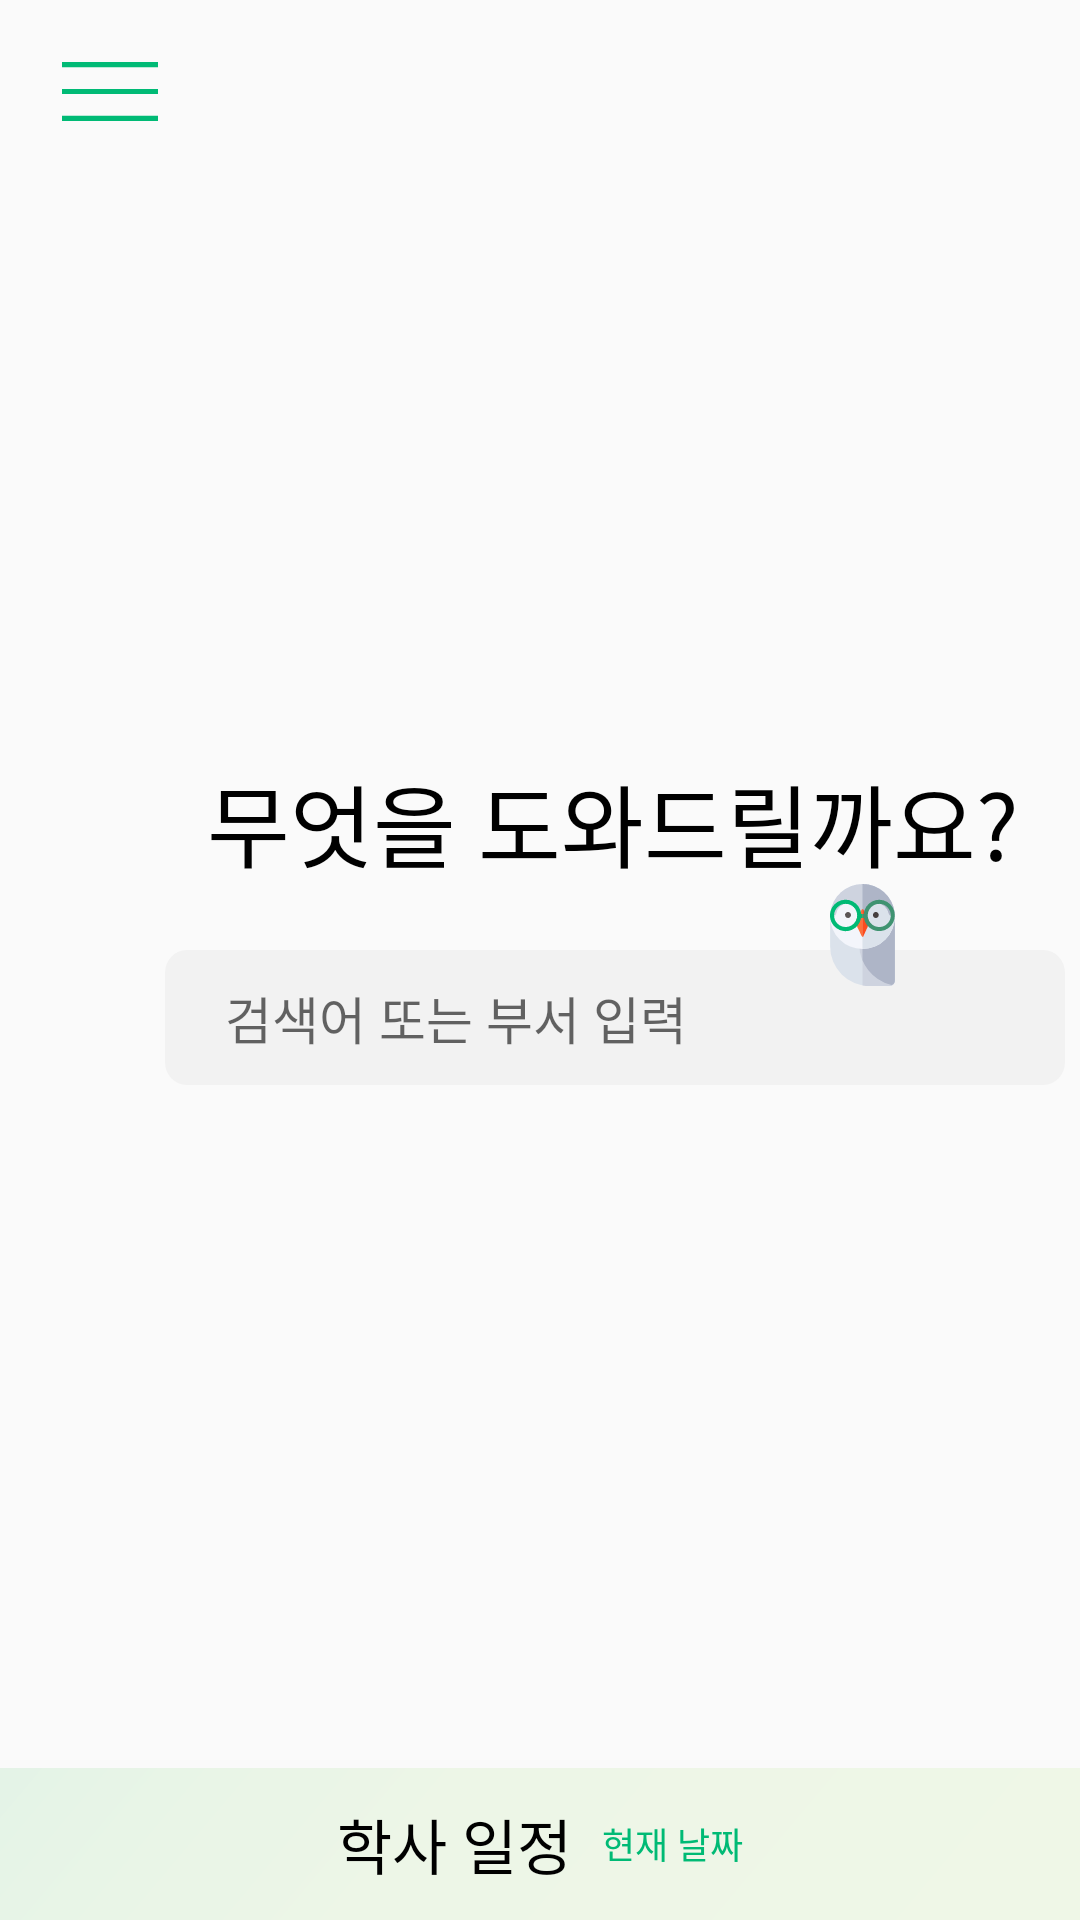

Where to tap for icons on this 1080 x 1920 app screen, as (x=x, y=y):
navibutton: (x=110, y=91)
